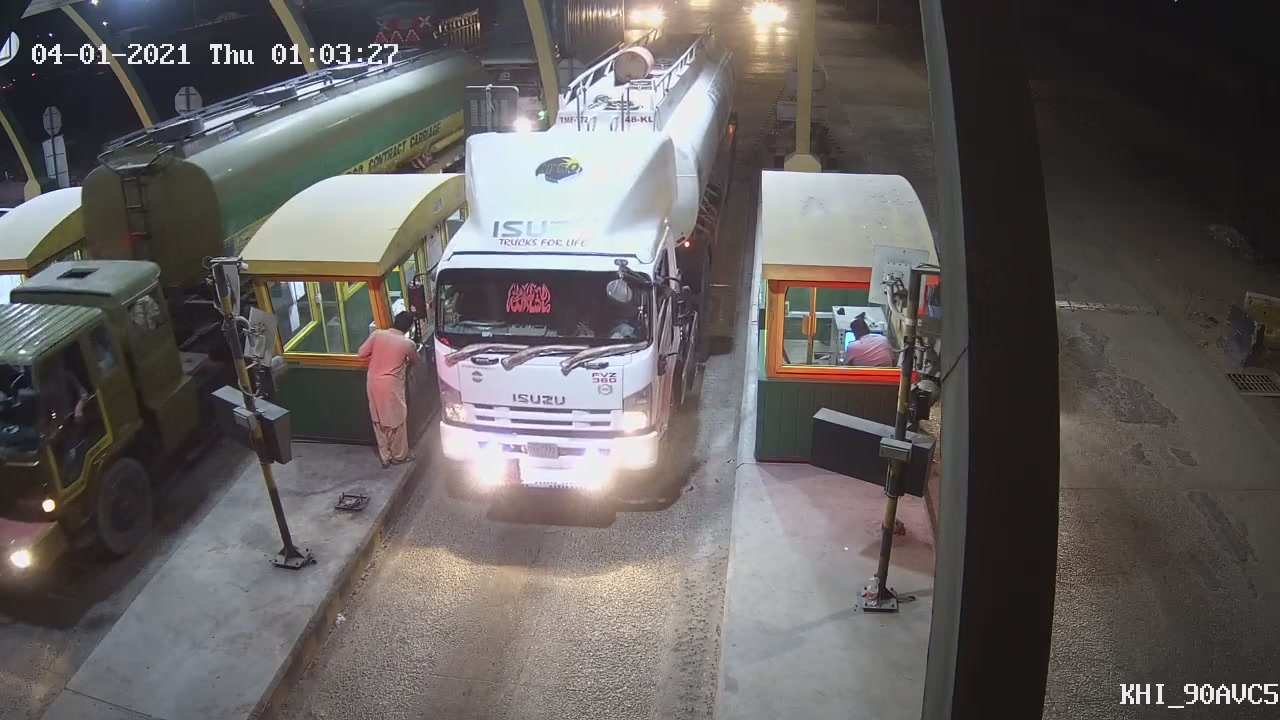F5: (412, 16, 737, 538)
